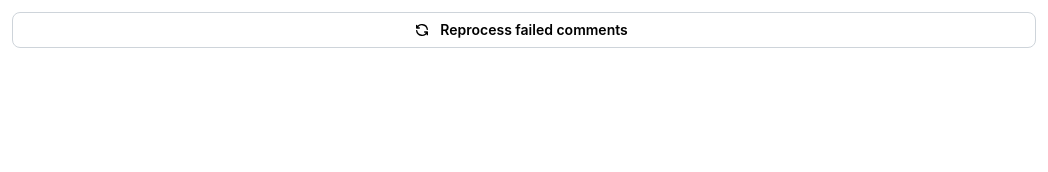
Test case: ReprocessButton › reports a failure
Click the button with test id "admin-reprocess" at (524, 30), box [12,12,1036,48]
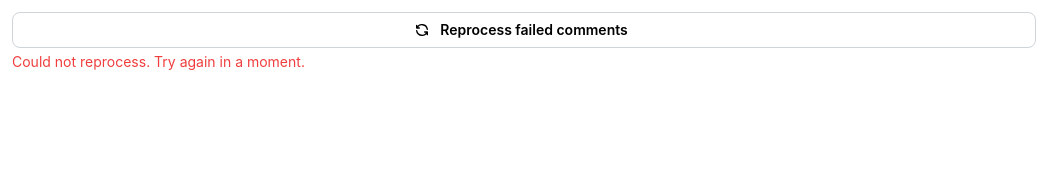
Result: the text "Could not reprocess. Try again in a moment." is shown at [12,53,305,70]
